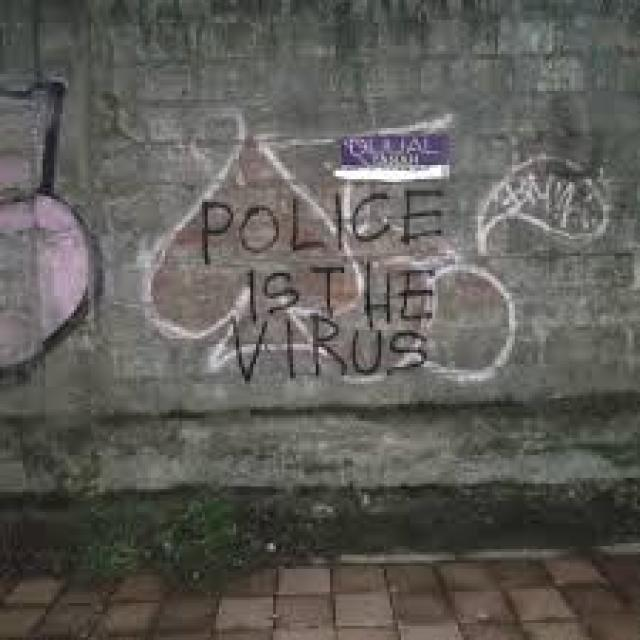-: (138, 108, 612, 388), (0, 76, 101, 394)
